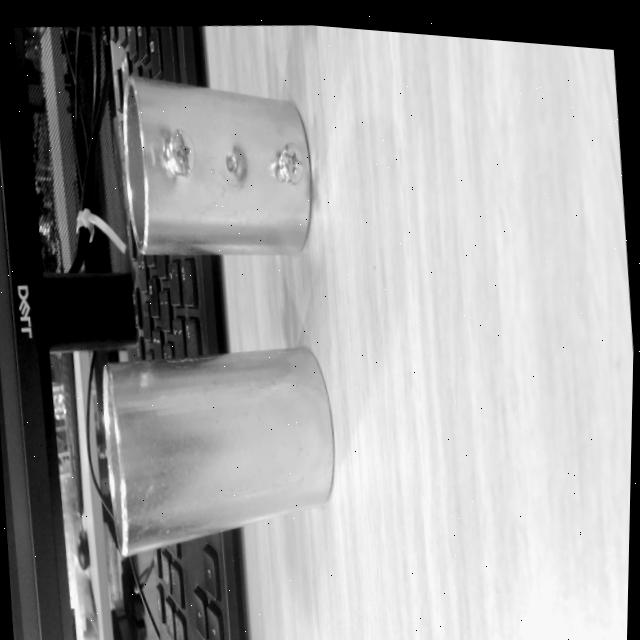Co_Lon: (96, 342, 342, 556)
Co_Nho: (121, 76, 310, 255)
